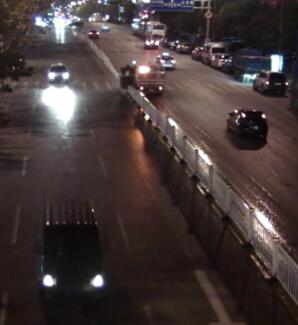bus: (139, 19, 165, 40), (130, 17, 140, 35)
car: (35, 195, 108, 305), (224, 107, 270, 144), (230, 46, 271, 79), (134, 60, 167, 94), (251, 69, 291, 97), (45, 62, 71, 85), (200, 40, 226, 62), (211, 50, 232, 71), (156, 51, 177, 69), (142, 35, 161, 49), (190, 45, 206, 60), (174, 40, 191, 53), (86, 28, 100, 39), (99, 22, 111, 31)
